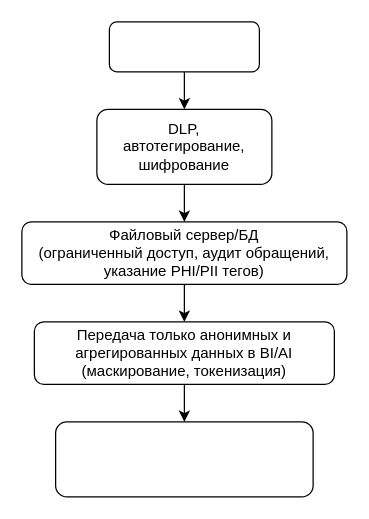
Some shapes in this 369 by 519 pixel diagram are drawn without their labels. The centre of each missing label's shape, as x and y in pixels:
"BI/ML/AI-платформа (Полная анонимизация, невозможность deanonymize)" goes at (x=183, y=459).
"Сканы, анализы" goes at (x=183, y=46).
